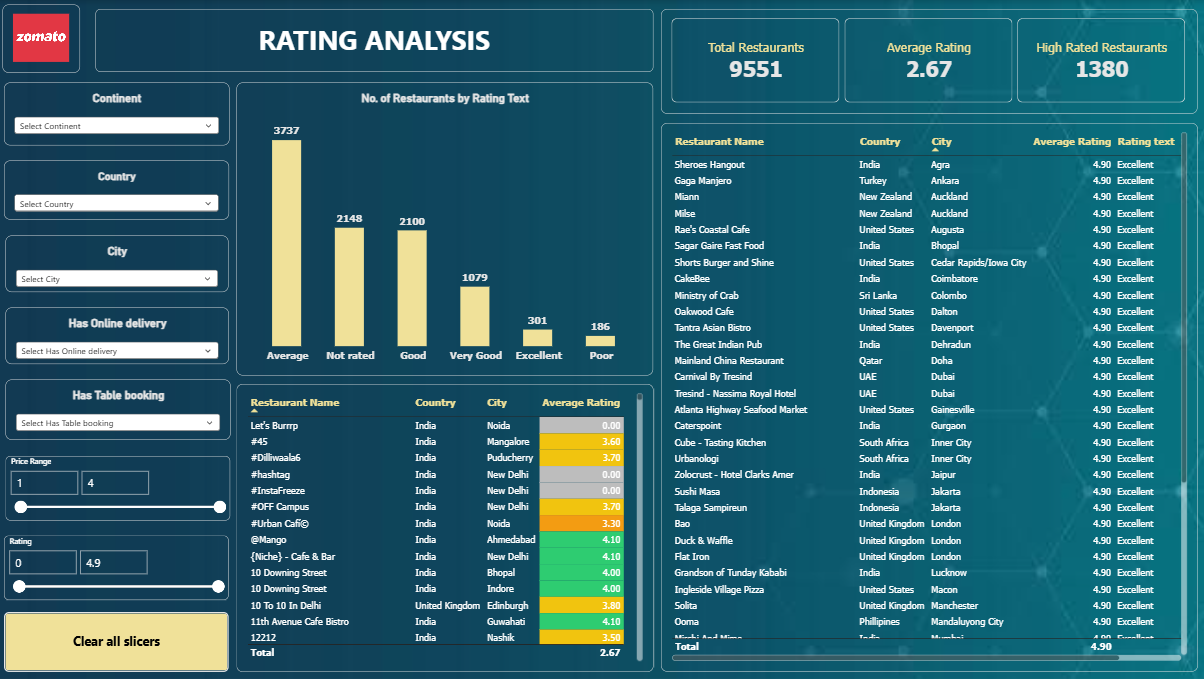

This screenshot's page, from the dashboard's own definition file:
{"tool":"powerbi","page":{"name":"Rating Analysis","canvas":[1920,1080],"ordinal":1},"visuals":[{"type":"image","box":[0,0,1920,1080],"z":0},{"type":"cardVisual","fields":{"Data":["Rest Measures.Total Restaurants","Rest Measures.Average Rating","Rest Measures.High Rated Restaurants"]},"box":[1055,15,853.3,166.7],"z":1000},{"type":"clusteredColumnChart","title":"No. of Restaurants by Rating Text","fields":{"Category":["KPIs.Rating text"],"Y":["CountNonNull(KPIs.Restaurant ID)"]},"box":[380,131.4,662.9,465.7],"z":2000},{"type":"tableEx","fields":{"Values":["Append1.Restaurant Name","Append1.Country","Append1.City","Rest Measures.Average Rating"]},"box":[380,610,663.3,458.1],"z":3000},{"type":"tableEx","fields":{"Values":["Append1.Restaurant Name","Append1.Country","Append1.City","Rest Measures.Average Rating","KPIs.Rating text","Sum(KPIs.Votes)"]},"box":[1055,196.2,853.8,872.5],"z":4000},{"type":"image","box":[8.3,8.3,123.3,108.3],"z":5000},{"type":"listSlicer","fields":{"Values":["Append1.Continent Hierarchy.Continent"]},"box":[10,131.5,358.5,100],"z":6000},{"type":"listSlicer","fields":{"Values":["Append1.Continent Hierarchy.Country"]},"box":[10,256.4,358,94],"z":7000},{"type":"listSlicer","fields":{"Values":["Append1.Continent Hierarchy.City"]},"box":[12.3,375.4,354.6,90],"z":8000},{"type":"listSlicer","fields":{"Values":["KPIs.Has Online delivery"]},"box":[12.2,490,355.6,90],"z":9000},{"type":"listSlicer","fields":{"Values":["KPIs.Has Table booking"]},"box":[12.5,604.6,358,96],"z":10000},{"type":"slicer","title":"Rating","fields":{"Values":["KPIs.Price range"]},"box":[12.5,725.3,357.5,102.5],"z":11000},{"type":"slicer","title":"Rating","fields":{"Values":["KPIs.Aggregate rating"]},"box":[10,852.5,357.5,102.5],"z":12000},{"type":"actionButton","box":[10,972.5,357.5,95],"z":13000},{"type":"textbox","box":[155,15,887.5,100],"z":14000}]}

Visuals, with their boxes in screenshot pixels (x1, y1, x2, y2), scaled from the page's 1920x1080 canvas onto the 1204x679 screenshot:
image: left=0, top=0, right=1203, bottom=678
cardVisual - Rest Measures.Total Restaurants x Rest Measures.Average Rating: left=662, top=9, right=1197, bottom=114
"No. of Restaurants by Rating Text" clusteredColumnChart: left=238, top=83, right=654, bottom=375
tableEx - Append1.Restaurant Name x Append1.Country: left=238, top=384, right=654, bottom=672
tableEx - Append1.Restaurant Name x Append1.Country: left=662, top=123, right=1197, bottom=672
image: left=5, top=5, right=83, bottom=73
listSlicer - Append1.Continent Hierarchy.Continent: left=6, top=83, right=231, bottom=146
listSlicer - Append1.Continent Hierarchy.Country: left=6, top=161, right=231, bottom=220
listSlicer - Append1.Continent Hierarchy.City: left=8, top=236, right=230, bottom=293
listSlicer - KPIs.Has Online delivery: left=8, top=308, right=231, bottom=365
listSlicer - KPIs.Has Table booking: left=8, top=380, right=232, bottom=440
"Rating" slicer: left=8, top=456, right=232, bottom=520
"Rating" slicer: left=6, top=536, right=230, bottom=600
actionButton: left=6, top=611, right=230, bottom=671
textbox: left=97, top=9, right=654, bottom=72
